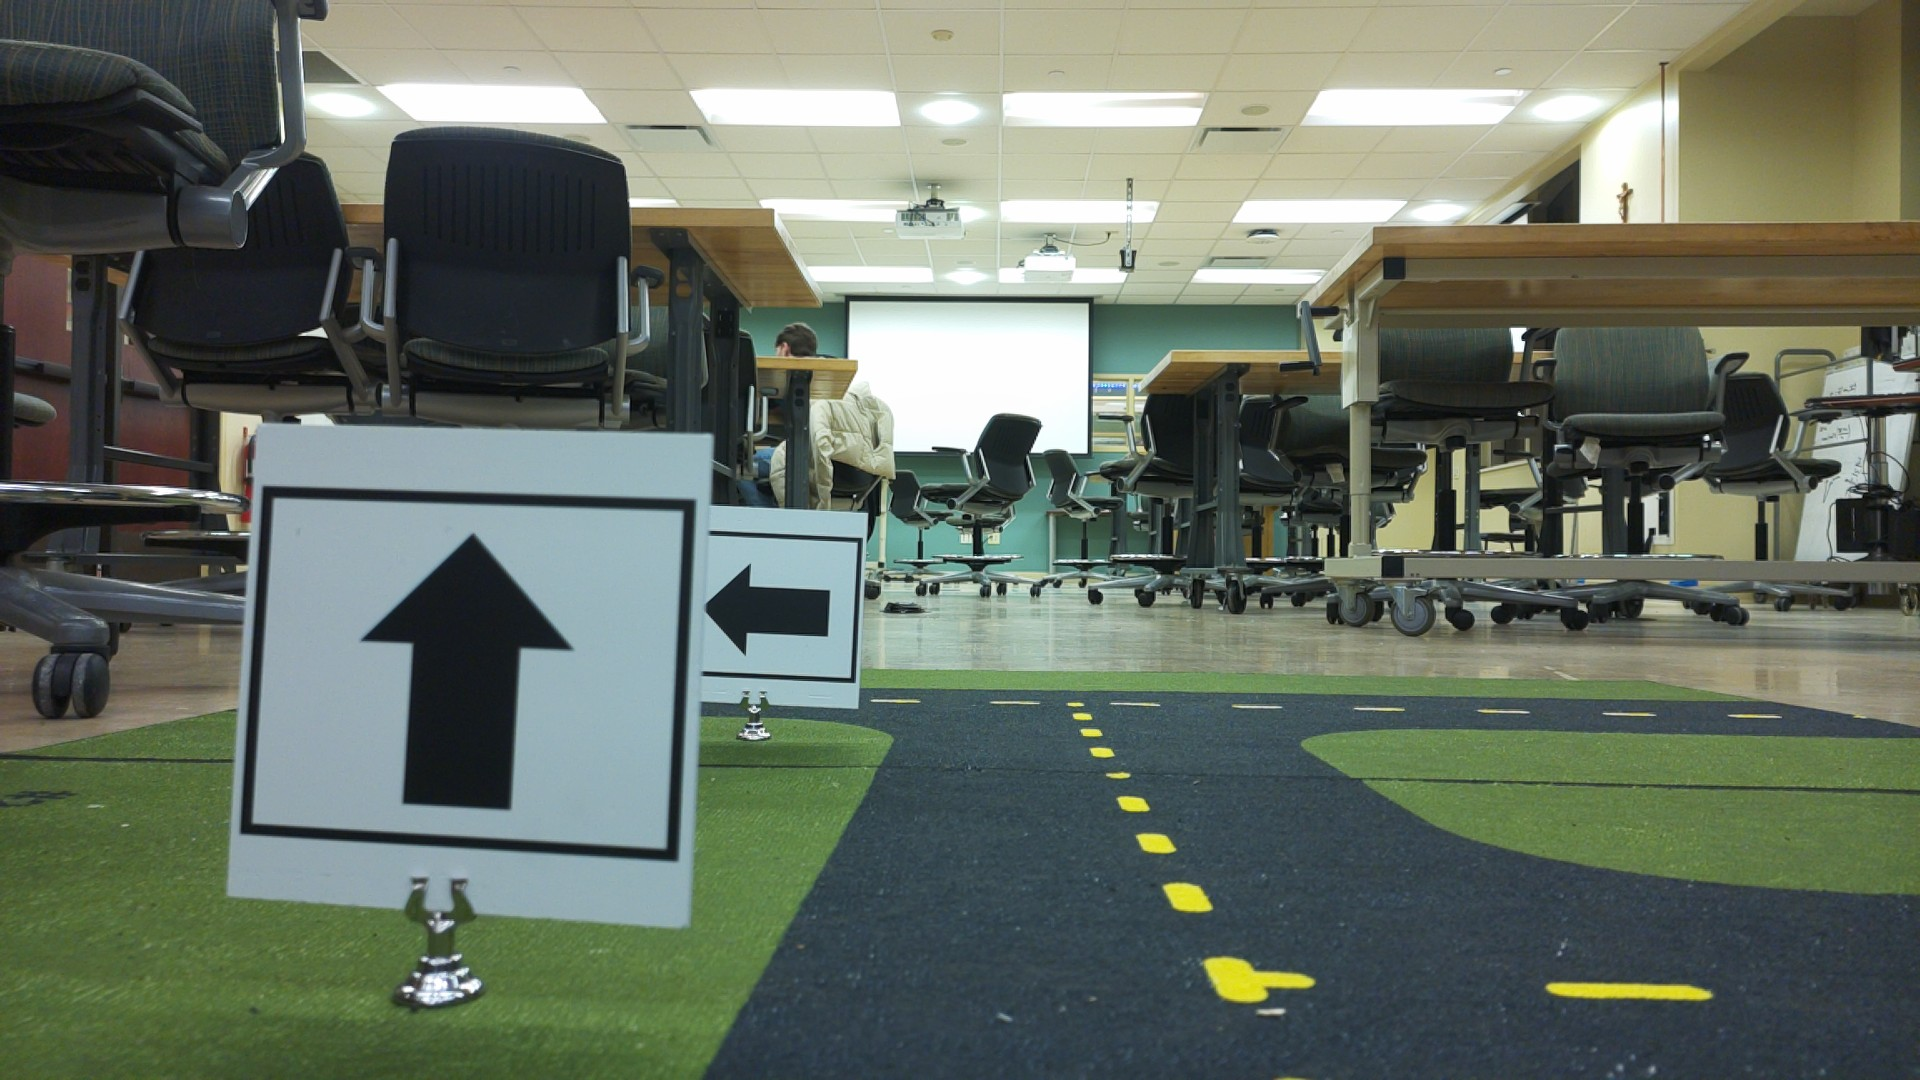gostraight: (266, 436, 688, 915)
turnleft: (700, 534, 856, 699)
